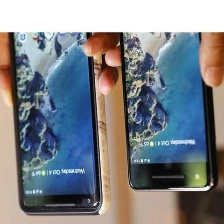phone: (4, 5, 113, 219), (114, 0, 221, 195)
